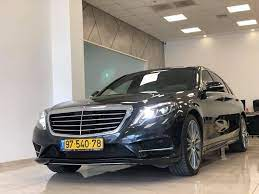licence: (60, 136, 106, 153)
